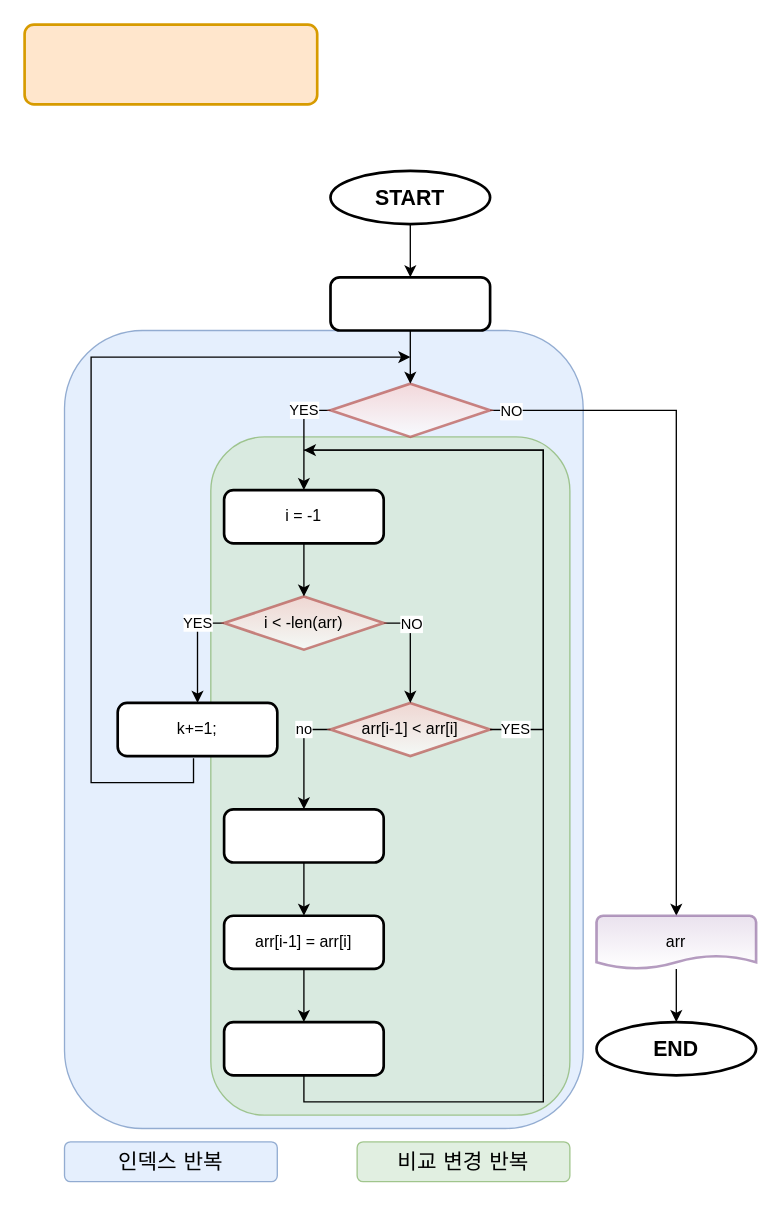
Image size: 779x1205. Some labels were removed from this diagram. Here are the shapes that lost their labels. From the top down, the centre of each, then its label:
At point 170,64: "단순 교환법".
At point 410,303: "k = -len(arr) i = 0".
At point 410,410: "k<-1".
At point 303,835: "c = arr[i-1]".
At point 303,1048: "arr[i] = c".
